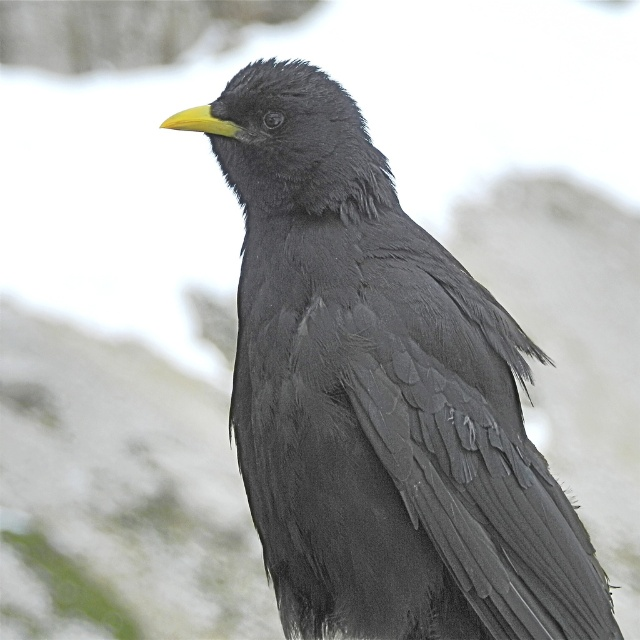Raven: (160, 57, 625, 640)
